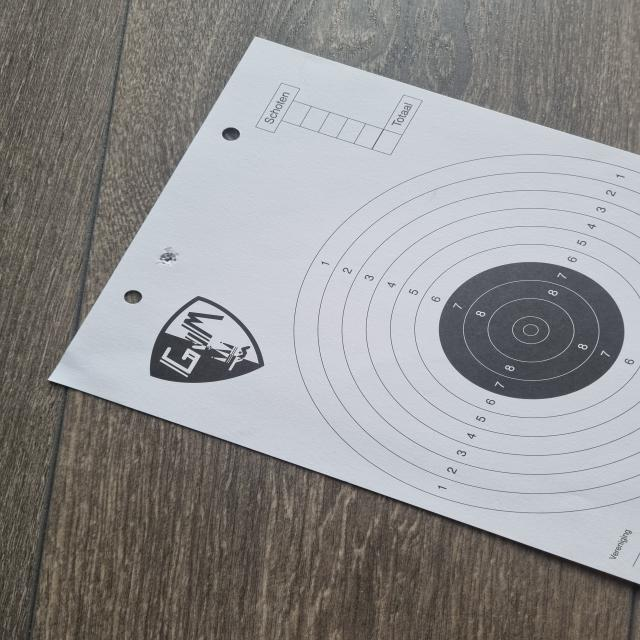0: (157, 252, 179, 266)
Target: (291, 153, 640, 514)
black_contour: (440, 261, 624, 399)
